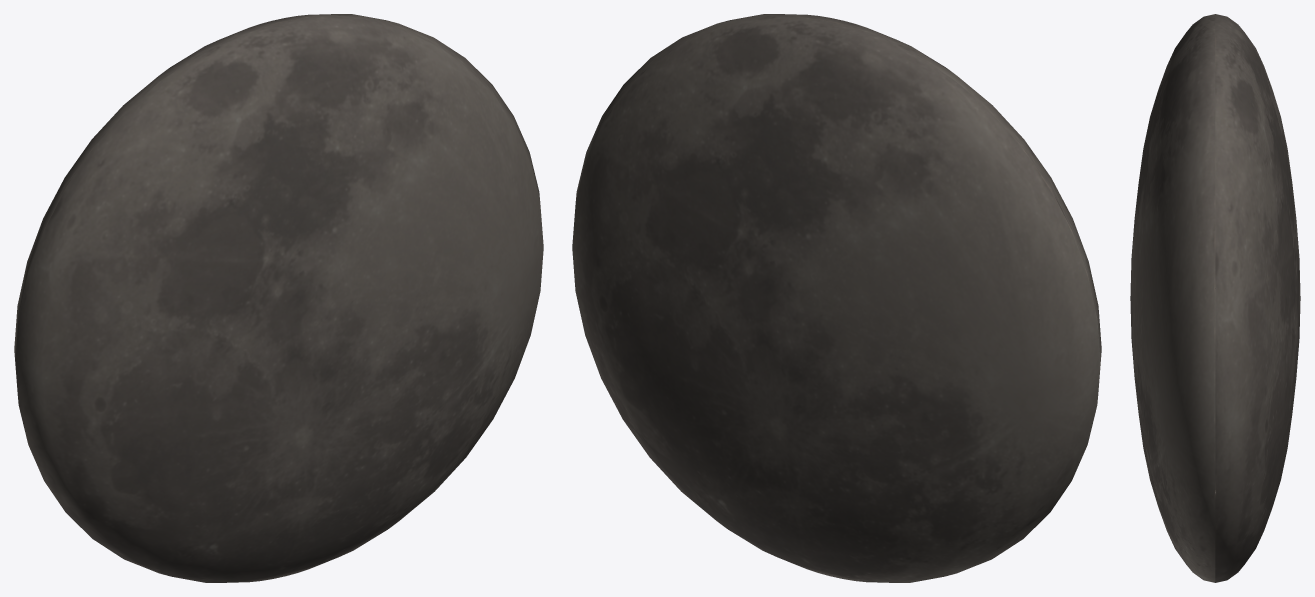
File: SM_MoonPhase1_NewMoon.fbx
3 renders of one model, left to right at view 1: azimuth 30°, elevation 25°; view 2: azimuth 150°, elevation 25°; view 3: azimuth 270°, elevation 25°, orthographic. The views are drawn at different scales.
Parts seen in each view (by area): view 1: pSphere4; view 2: pSphere4; view 3: pSphere4.
Boxes of the visible parts, left/top/right/bottom form: pSphere4: left=14, top=14, right=543, bottom=582; pSphere4: left=572, top=14, right=1101, bottom=582; pSphere4: left=1130, top=14, right=1300, bottom=582.
Bounding box in the file's own units: 158 × 158 × 47.13.
